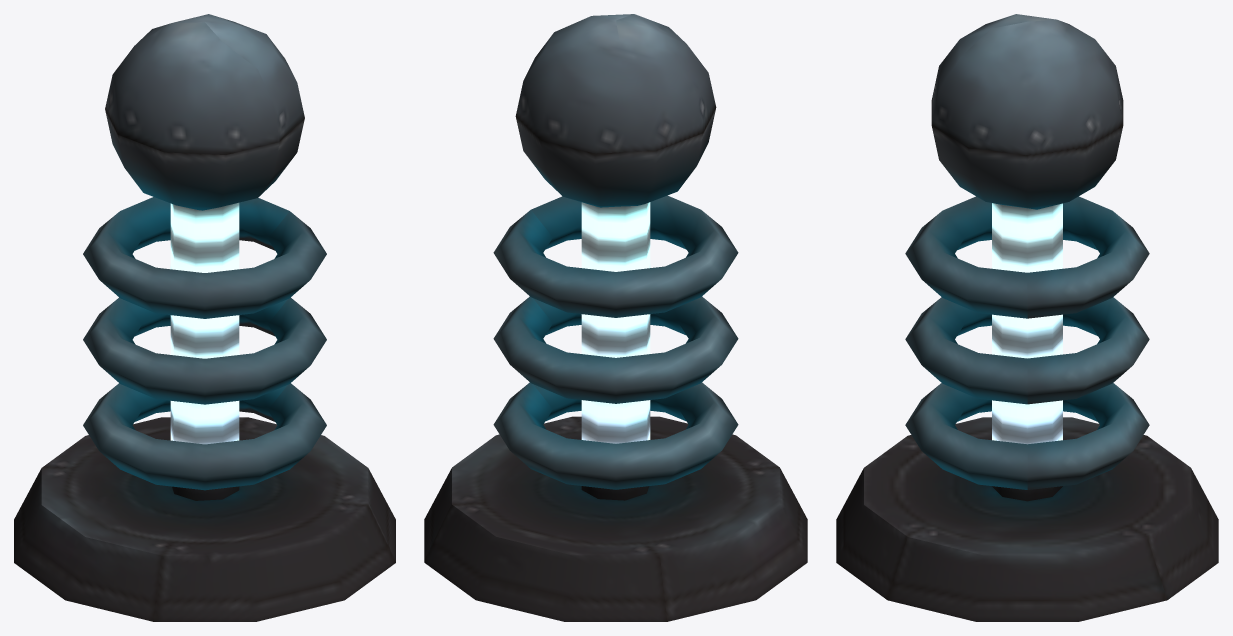
Rendered from Tow_Tesla1.fbx.
3 renders of one model, left to right at view 1: azimuth 30°, elevation 25°; view 2: azimuth 150°, elevation 25°; view 3: azimuth 270°, elevation 25°, orthographic.
Visible parts, largest first — view 1: Tow_Tesla1; view 2: Tow_Tesla1; view 3: Tow_Tesla1.
Boxes of the visible parts, <box> form: Tow_Tesla1: <box>14,14,395,621</box>; Tow_Tesla1: <box>424,14,807,621</box>; Tow_Tesla1: <box>836,14,1218,621</box>.
Size of the model in its own units: 147 by 220 by 147.
Materials: 1 (1 with a texture image).
